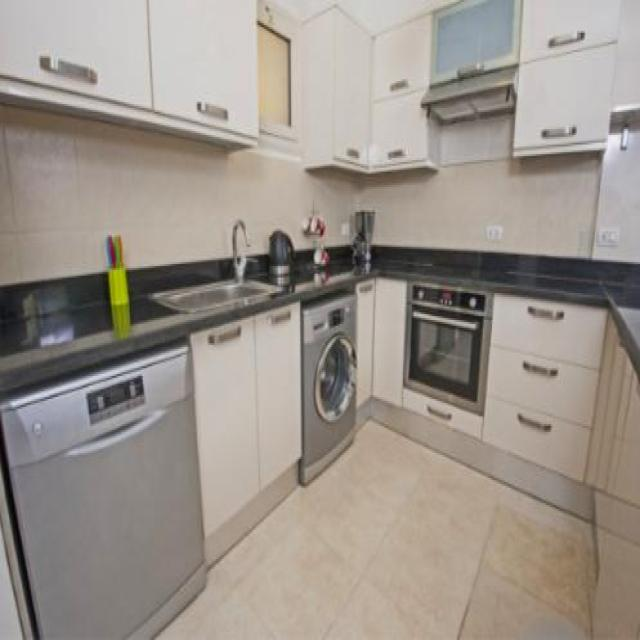dishwasher: (0, 320, 206, 638)
